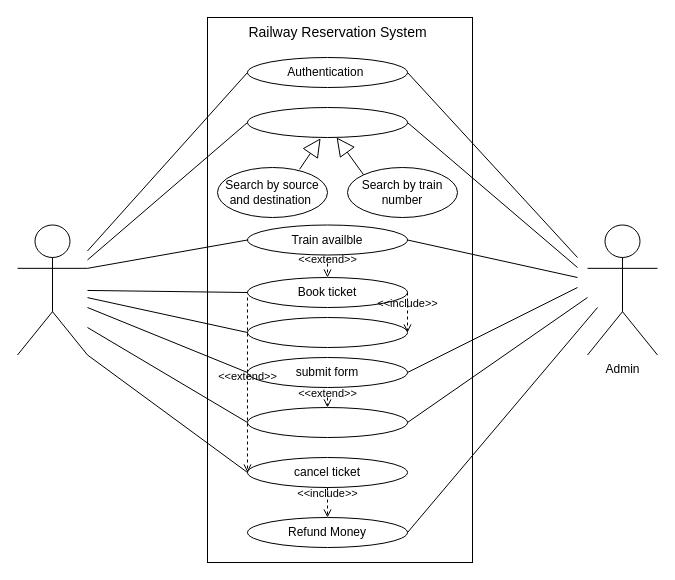
This 675x580 diagram has some shape labels left out. The centre of each missing label's shape, as x and y in pixels:
"Customer" goes at point (52, 289).
"Fill form" goes at point (327, 332).
"Print ticket" goes at point (327, 422).
"Search" goes at point (327, 122).
